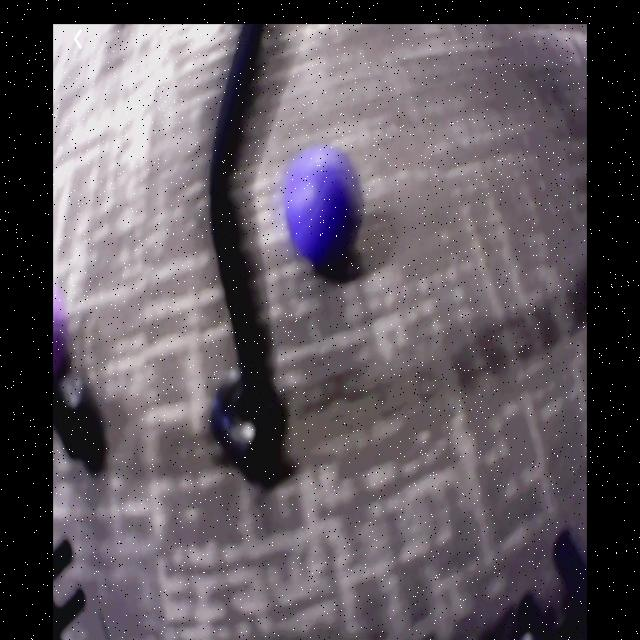ball: (287, 145, 362, 272), (54, 290, 68, 380)
